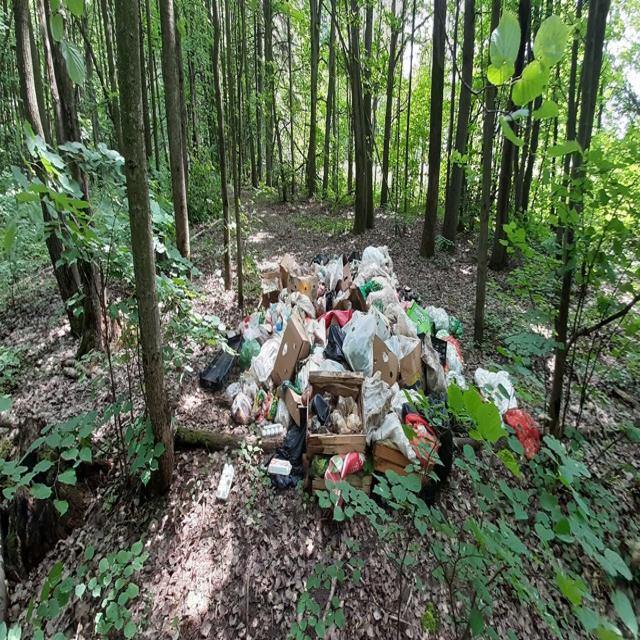lixeira: (250, 257, 463, 495), (473, 367, 540, 458), (201, 332, 244, 424)
